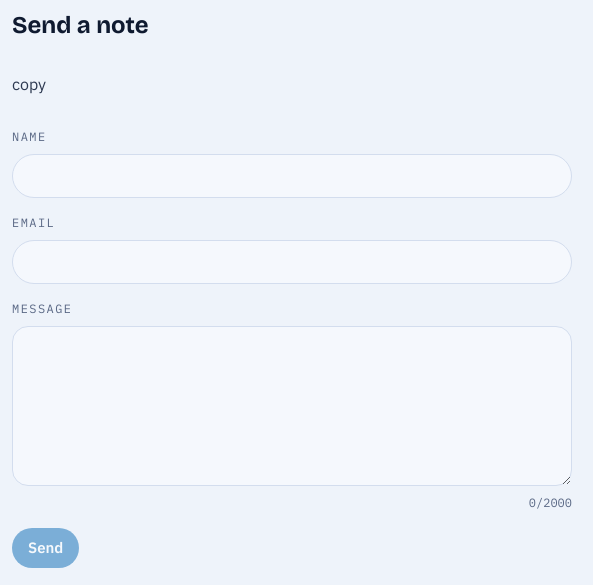
ContactForm submit › shows the message counter
In the text box labelled "Message": {"x": 292, "y": 406} [12,326,572,486], type "hello"
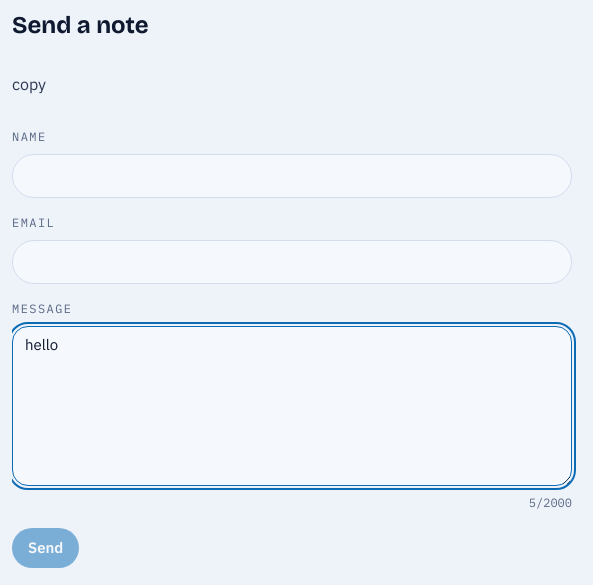
Expected: the text with test id "contact-message-counter" reads "5/2000", [529,494,572,512]
